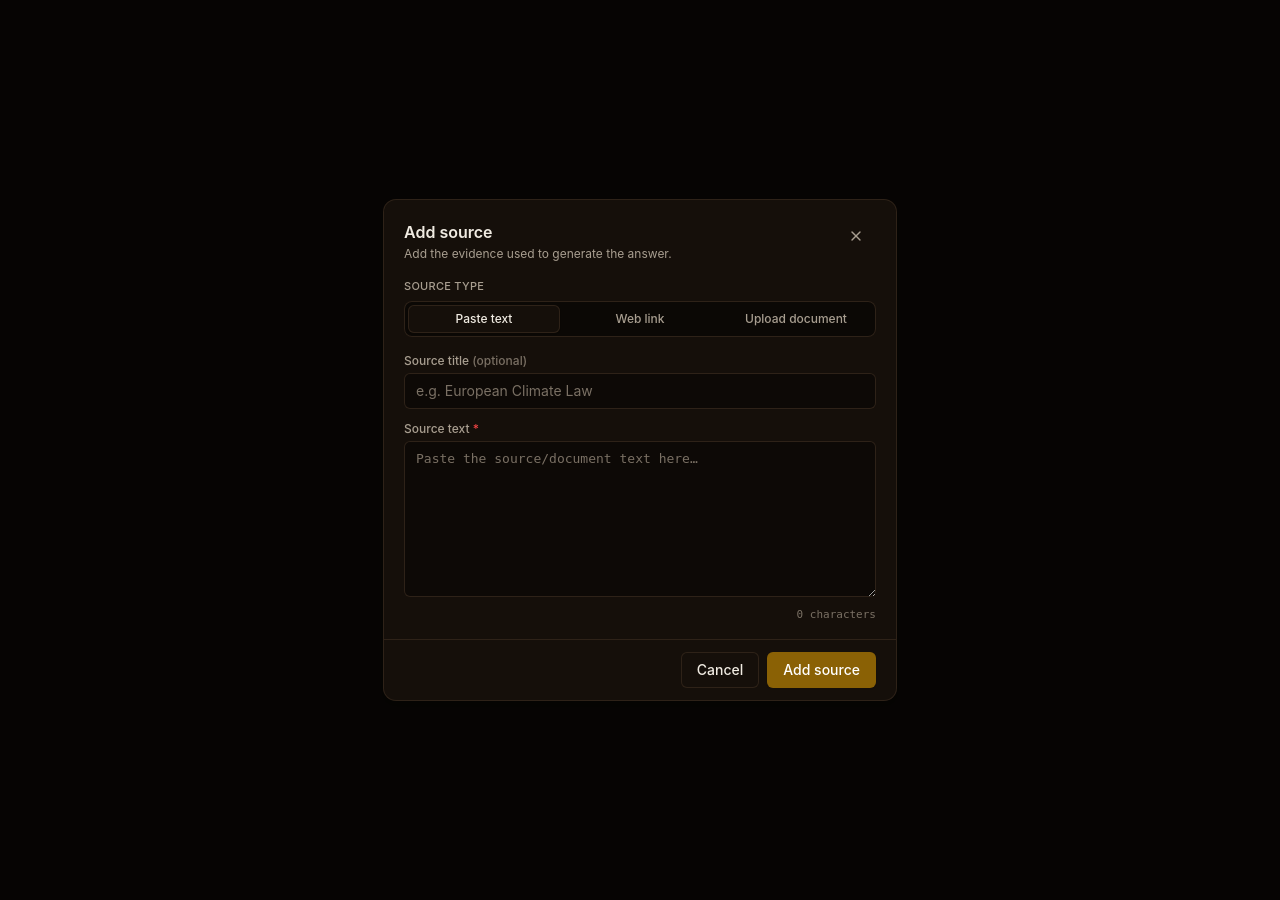
Test case: AddSourceDialog — paste text › Add source stays disabled until meaningful text exists
expect the button "Add source" is disabled: met, box [767,652,876,688]
Type "Paris is the capital of France." into the text box labelled "Source text *" at (640, 518), box [404,440,876,596]
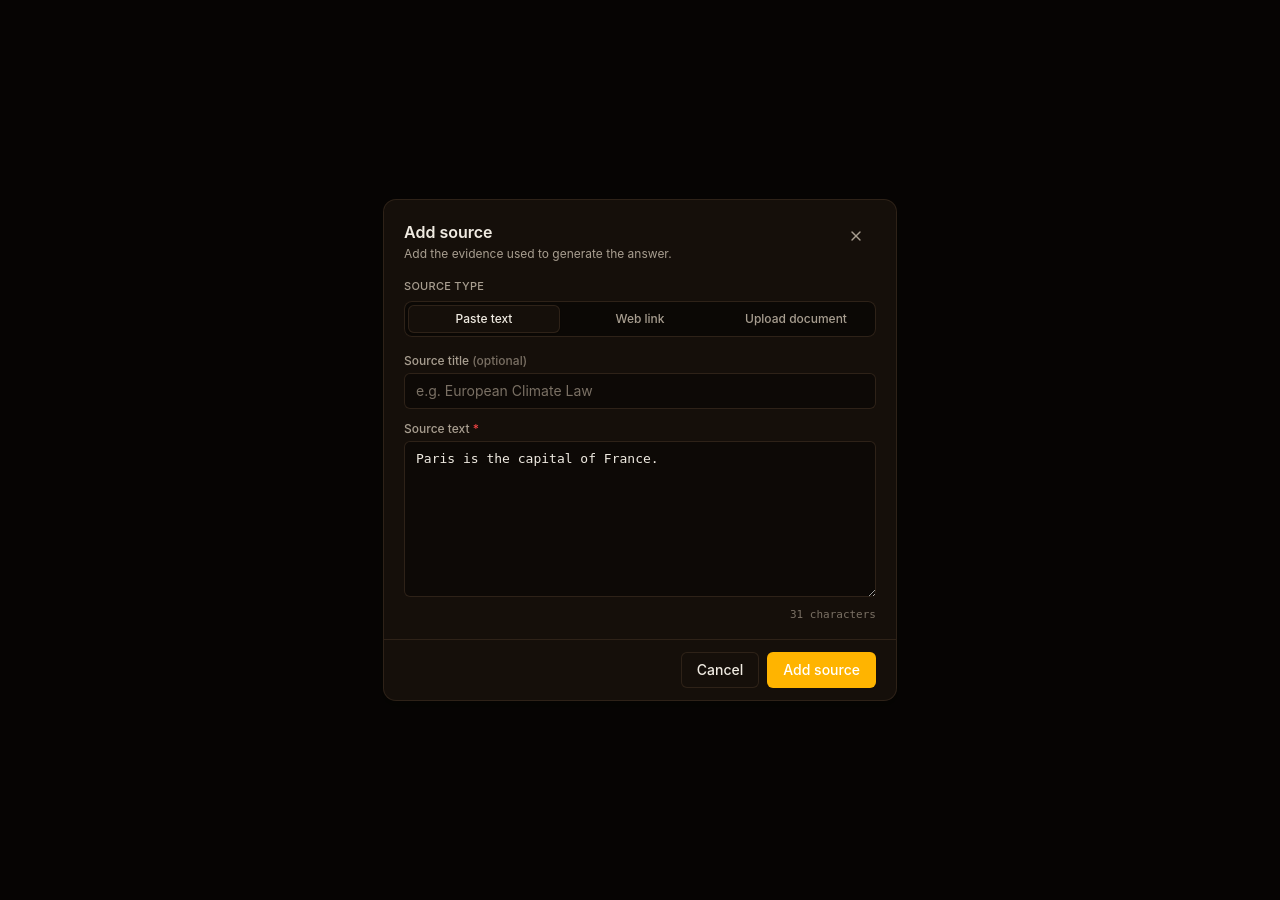
expect the button "Add source" is enabled: met, box [767,652,876,688]
